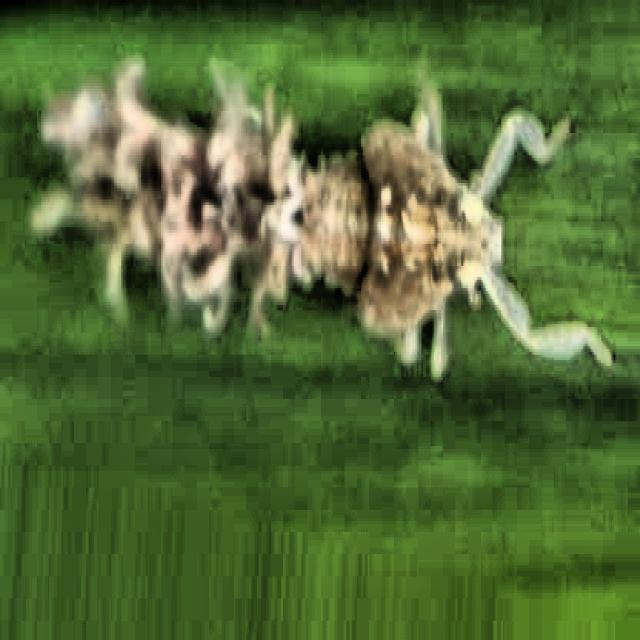Pyrilla-perpusilla: (15, 0, 640, 557)
